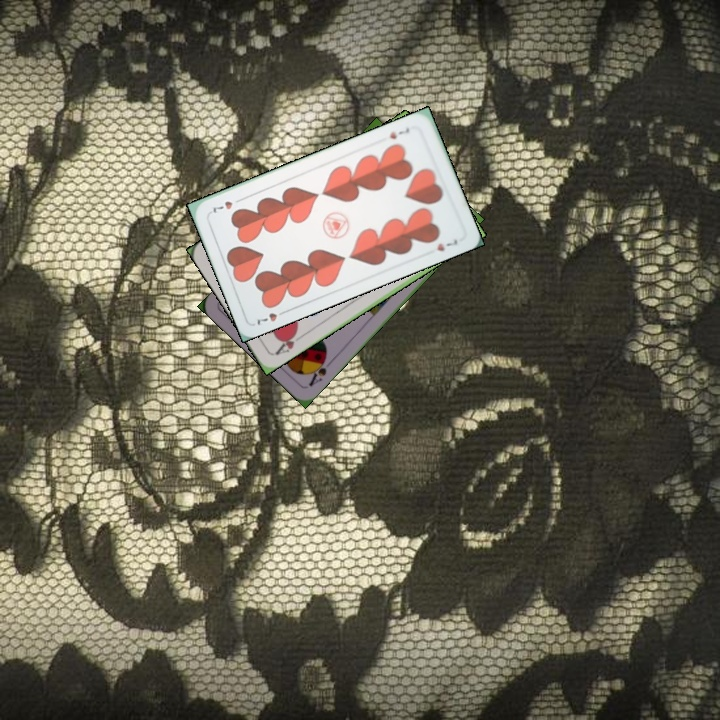H7: (253, 306, 290, 328), (386, 124, 412, 142)
HA: (270, 327, 307, 358)
SA: (305, 352, 335, 389)
